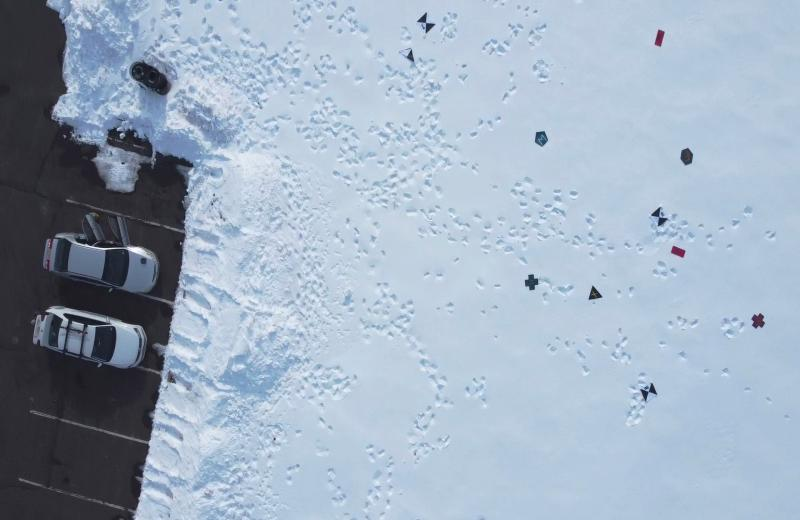Cross: (524, 273, 540, 292), (751, 312, 767, 330)
Hexagon: (678, 147, 694, 166)
Pentagon: (532, 129, 550, 150)
Rectangle: (650, 30, 666, 49), (670, 243, 686, 259)
Triangle: (588, 283, 604, 303)
